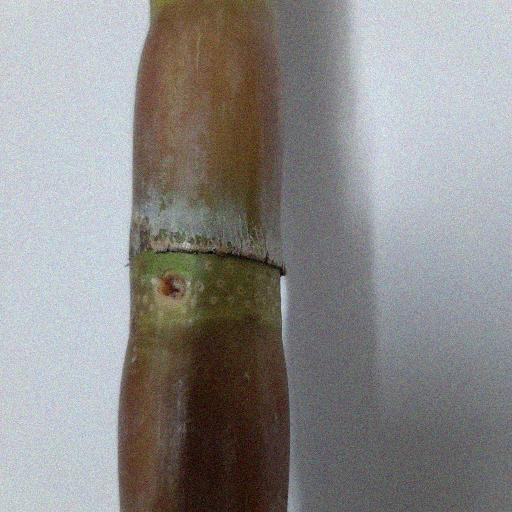Damage_Bud: (151, 269, 194, 308)
